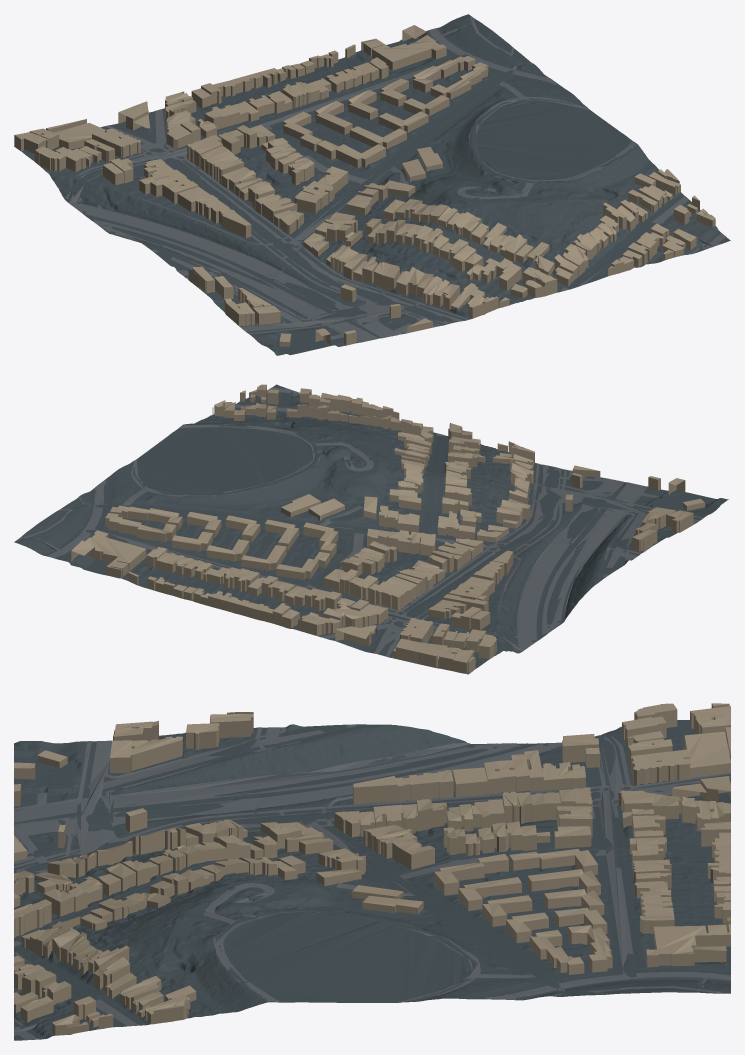
The model's file is epsg26910-1434-10877.lod0.glb.
3 renders of one model, top to bottom at view 1: azimuth 30°, elevation 25°; view 2: azimuth 150°, elevation 25°; view 3: azimuth 270°, elevation 25°, orthographic. The views are drawn at different scales.
Parts seen in each view (by area): view 1: epsg26910-1434-10877-lod0; view 2: epsg26910-1434-10877-lod0; view 3: epsg26910-1434-10877-lod0.
Part boxes in pixels (x1=…): epsg26910-1434-10877-lod0: x1=14, y1=14, x2=730, y2=355; epsg26910-1434-10877-lod0: x1=14, y1=384, x2=728, y2=674; epsg26910-1434-10877-lod0: x1=14, y1=703, x2=730, y2=1040.
Bounding box in the file's own units: 384 × 44.68 × 384.
